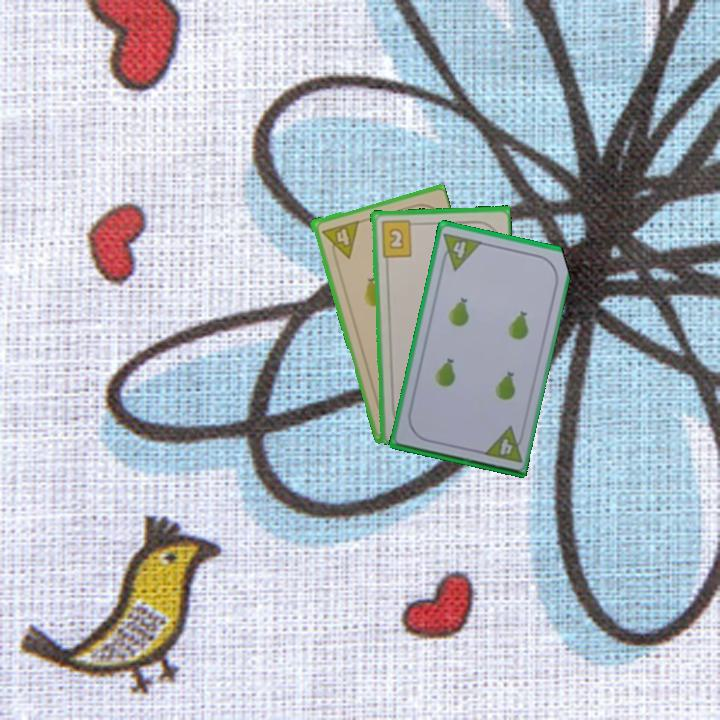2b: (378, 216, 419, 259)
4p: (317, 217, 361, 264), (437, 229, 484, 273), (479, 423, 527, 465)
